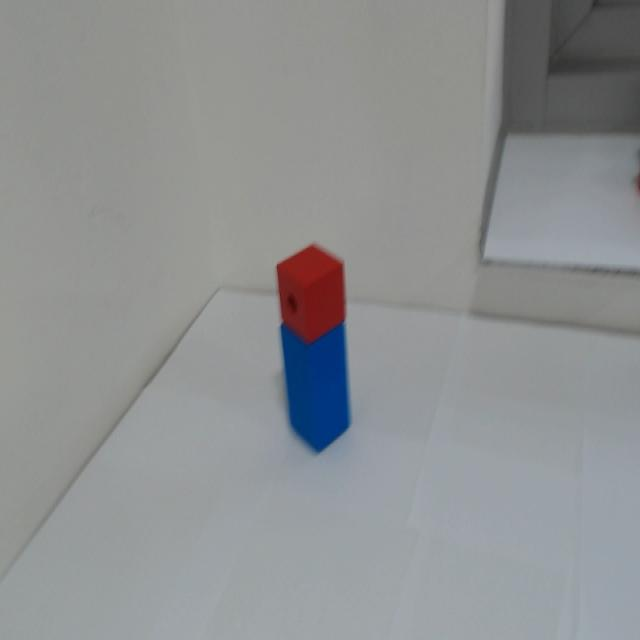cube: (269, 245, 374, 345)
